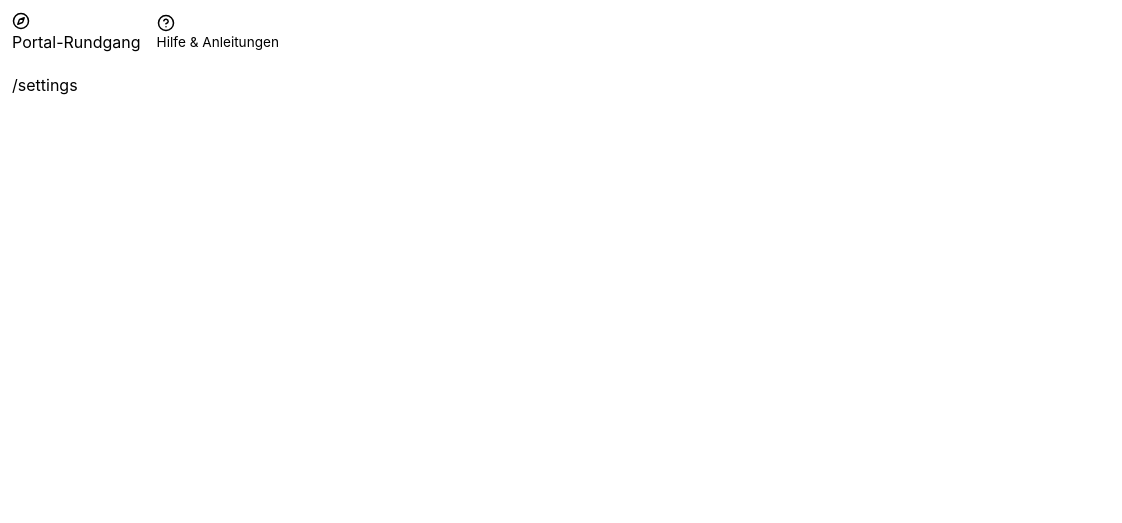
Scenario: live portal guidance › validates session storage and tolerates browser storage denial
Click the button "Portal-Rundgang". click: [76, 33]
box: 12,12 -> 141,54
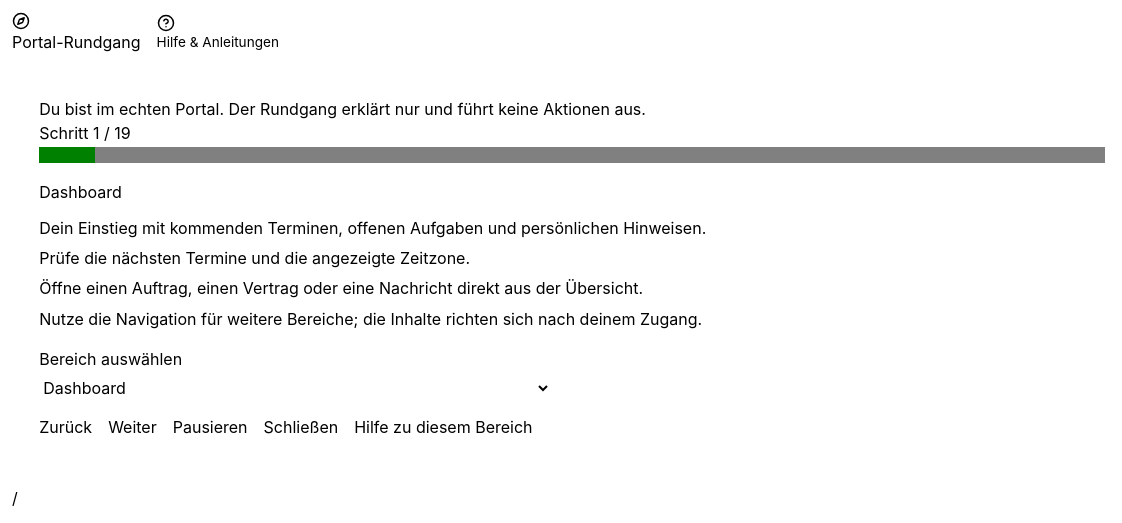
Check: the progress indicator is shown, box 39,147 -> 1105,163
